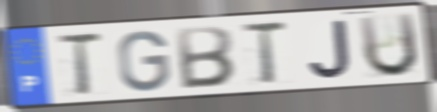B: (174, 24, 236, 91)
G: (115, 28, 172, 94)
J: (307, 17, 354, 81)
T: (238, 20, 291, 88), (53, 31, 106, 99)
U: (356, 10, 421, 80)
